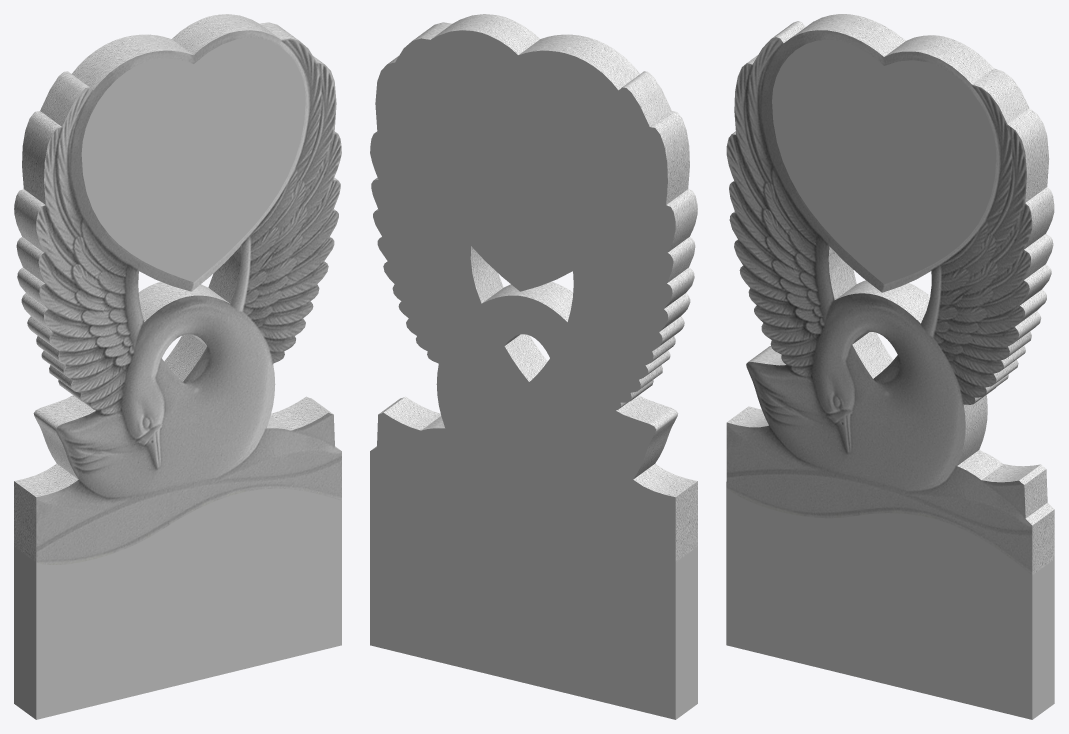
File: cn4ef889a61b_tkf.glb
The picture shows the model from 3 angles, left to right: view 1: azimuth 30°, elevation 25°; view 2: azimuth 150°, elevation 25°; view 3: azimuth 330°, elevation 25°; orthographic projection.
Parts seen in each view (by area): view 1: Pam-d01-113_2_notexture, Pam-d01-113; view 2: Pam-d01-113, Pam-d01-113_2_notexture; view 3: Pam-d01-113_2_notexture, Pam-d01-113.
Part boxes in pixels (bbox=[...]): Pam-d01-113_2_notexture: bbox=[14, 14, 341, 564]; Pam-d01-113: bbox=[14, 38, 341, 719]; Pam-d01-113: bbox=[370, 30, 697, 719]; Pam-d01-113_2_notexture: bbox=[371, 14, 697, 562]; Pam-d01-113_2_notexture: bbox=[726, 14, 1054, 575]; Pam-d01-113: bbox=[726, 39, 1054, 719].
Size of the model in its own units: 0.4 by 0.8 by 0.05.
1 material, 1 textured.
